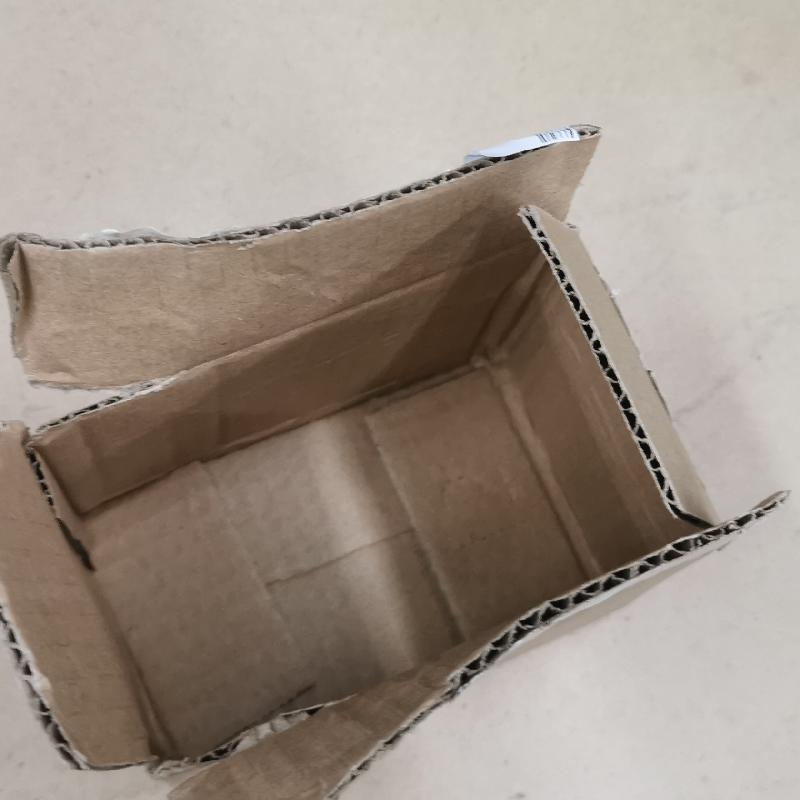boxes: (16, 122, 771, 800)
